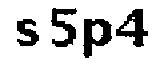4: (115, 6, 150, 51)
5: (48, 5, 79, 50)
p: (81, 15, 114, 60)
s: (13, 17, 42, 49)
